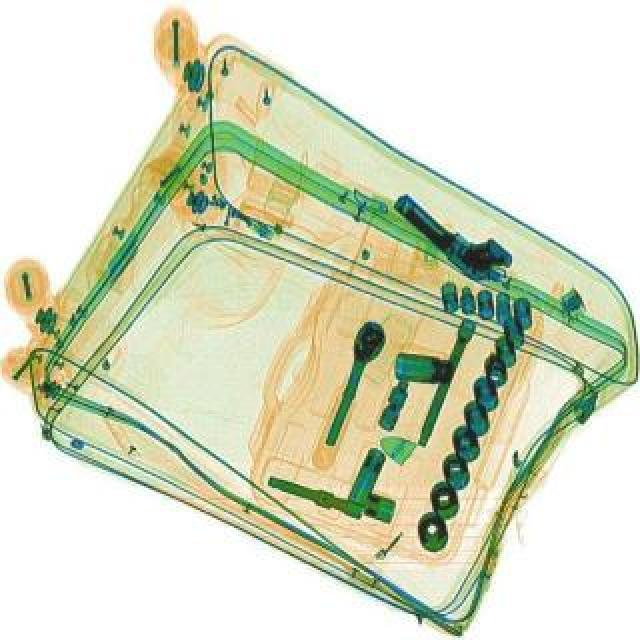gun: (388, 170, 518, 294)
